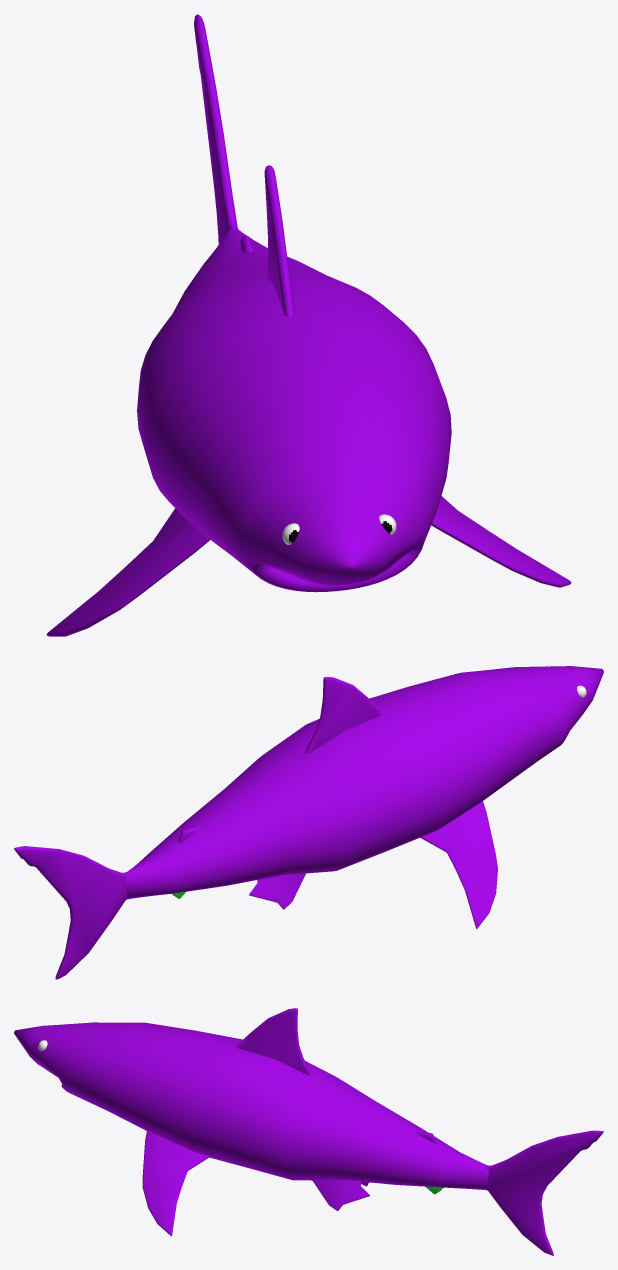
The model's file is purple-shark.glb.
3 renders of one model, top to bottom at view 1: azimuth 30°, elevation 25°; view 2: azimuth 150°, elevation 25°; view 3: azimuth 270°, elevation 25°, orthographic. The views are drawn at different scales.
Visible parts, largest first — view 1: Jaws.004, Vert.024, Vert.028, Vert.029; view 2: Jaws.004, Vert.028, Vert.024, Vert.029, Vert.025; view 3: Jaws.004, Vert.028, Vert.024, Vert.029, Vert.025.
Boxes of the visible parts, x1=… form: Jaws.004: x1=137, y1=227, x2=451, y2=592; Vert.024: x1=46, y1=496, x2=571, y2=636; Vert.028: x1=194, y1=14, x2=237, y2=244; Vert.029: x1=264, y1=165, x2=294, y2=315; Jaws.004: x1=125, y1=666, x2=603, y2=899; Vert.028: x1=14, y1=846, x2=128, y2=979; Vert.024: x1=420, y1=801, x2=497, y2=928; Vert.029: x1=305, y1=677, x2=383, y2=753; Vert.025: x1=249, y1=873, x2=305, y2=909; Jaws.004: x1=14, y1=1022, x2=488, y2=1189; Vert.028: x1=485, y1=1130, x2=603, y2=1255; Vert.024: x1=142, y1=1130, x2=210, y2=1236; Vert.029: x1=235, y1=1008, x2=312, y2=1076; Vert.025: x1=311, y1=1180, x2=369, y2=1210.
Size of the model in its own units: 0.6253 by 0.4892 by 1.32.
